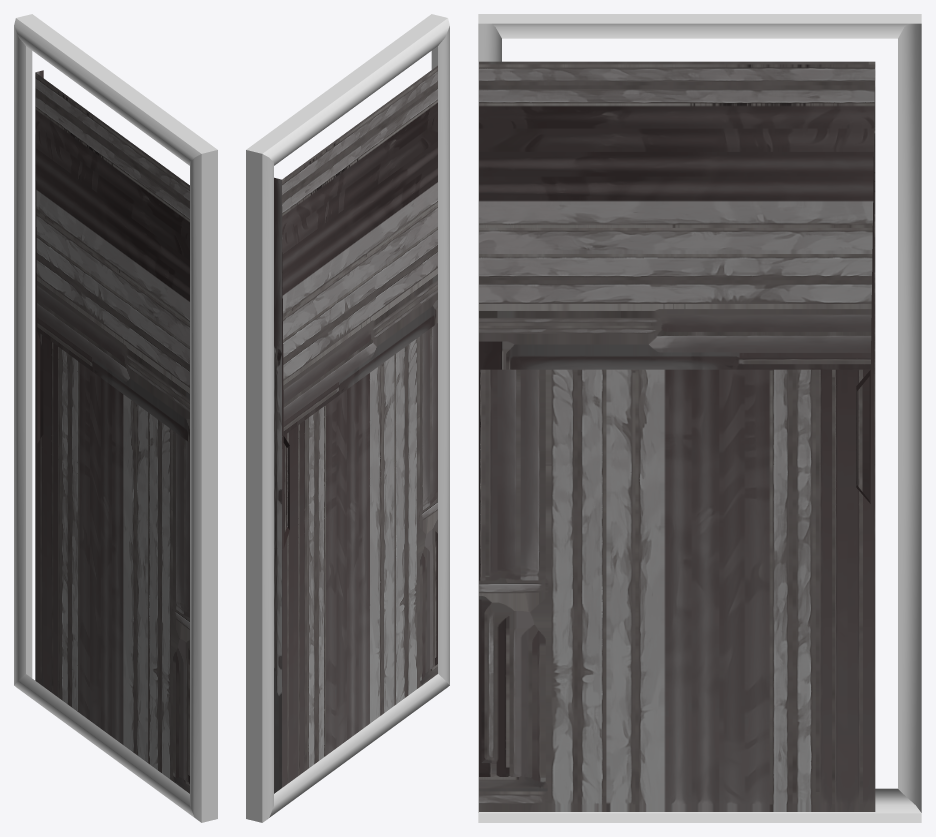
The model's file is Дверь.fbx.
3 views of the same model, side by side, from view 1: azimuth 30°, elevation 25°; view 2: azimuth 150°, elevation 25°; view 3: azimuth 270°, elevation 25° (orthographic). The views are drawn at different scales.
Parts seen in each view (by area): view 1: door_funk, door_found; view 2: door_funk, door_found; view 3: door_funk, door_found.
Boxes of the visible parts, x1,y1,x2,y2 form: door_funk: [35, 70, 189, 793]; door_found: [14, 14, 217, 822]; door_funk: [274, 65, 437, 793]; door_found: [246, 14, 449, 822]; door_funk: [479, 61, 875, 811]; door_found: [478, 14, 921, 822].
Size of the model in its own units: 29.99 by 920 by 463.
